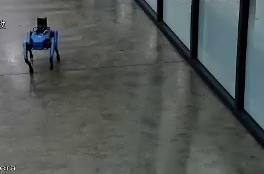robot dog: (22, 15, 64, 73)
